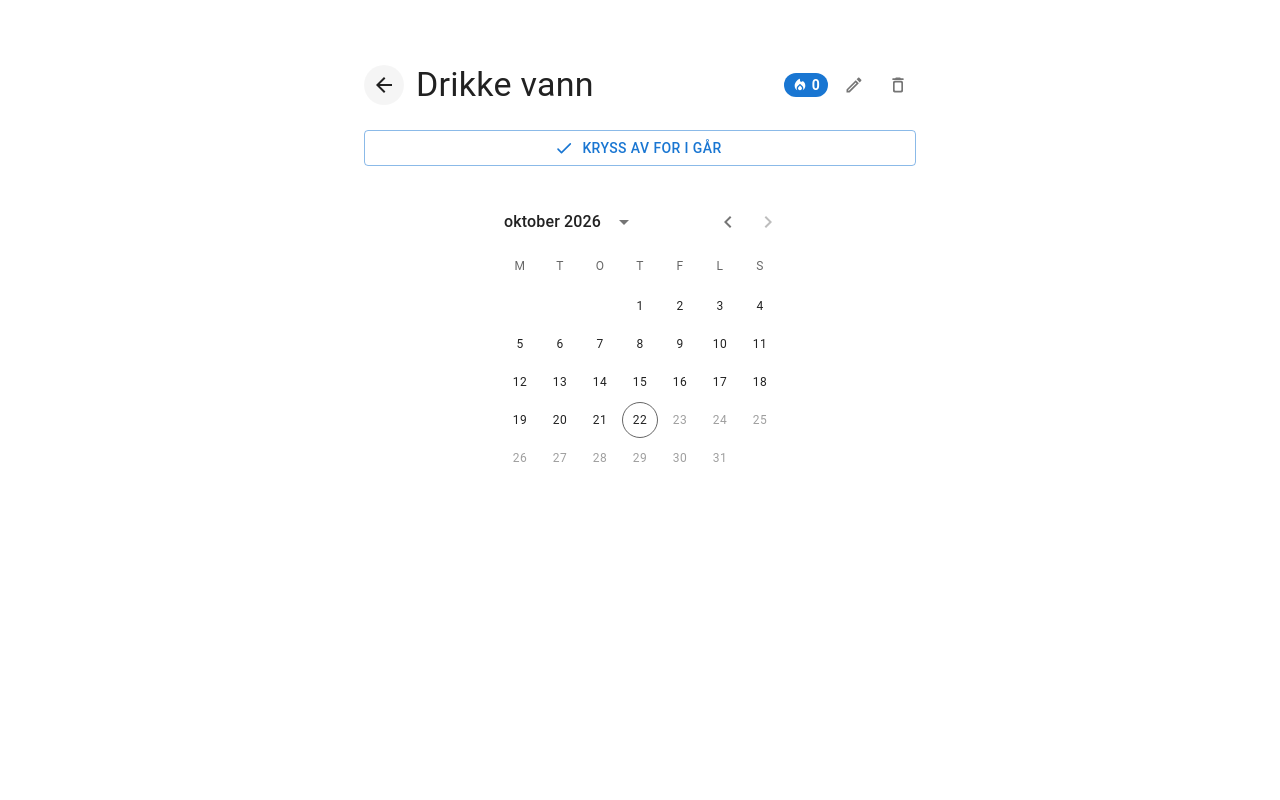
Test: HabitDetailPage › edits the habit's name via the edit button
The image size is (1280, 800).
Click the button named "Rediger": (854, 85) [836,67,872,103]
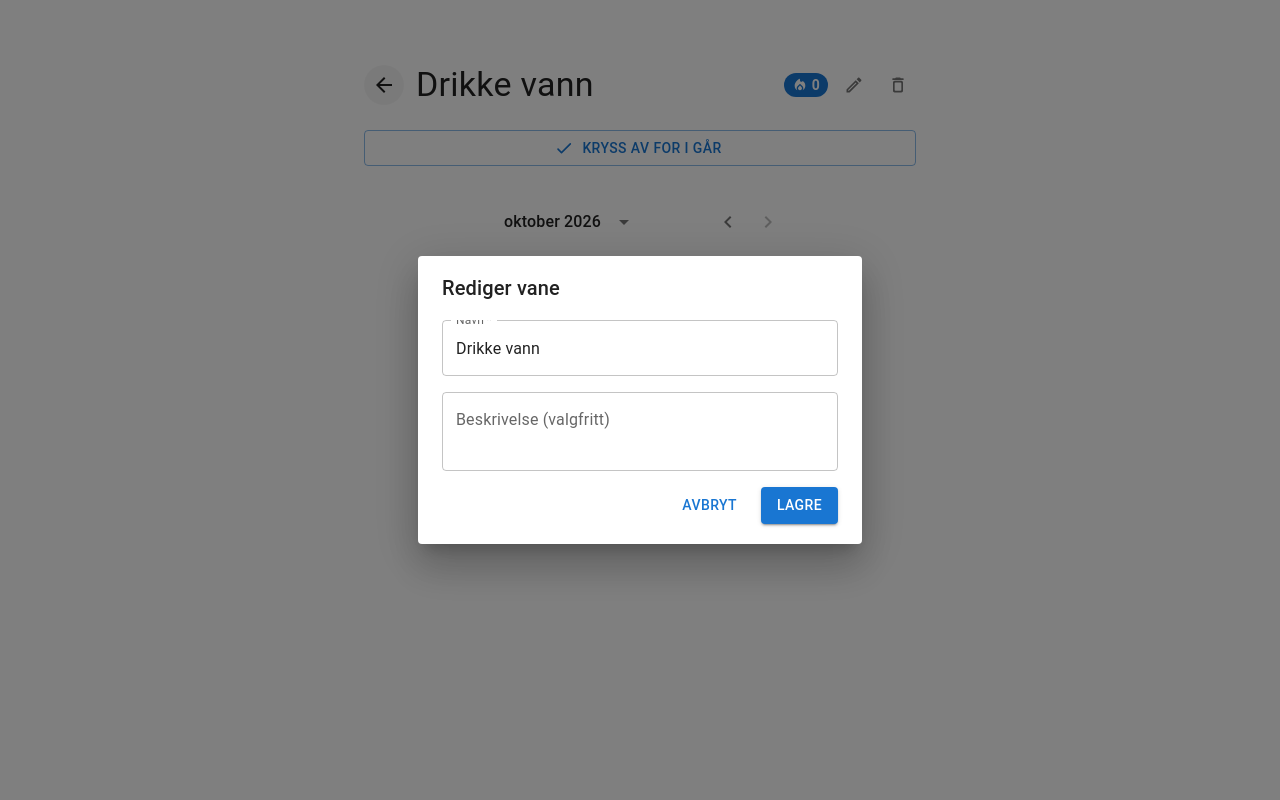
Replace the text in the field labelled "Navn *" with "Drikke mer vann": (640, 348) [442,320,838,376]
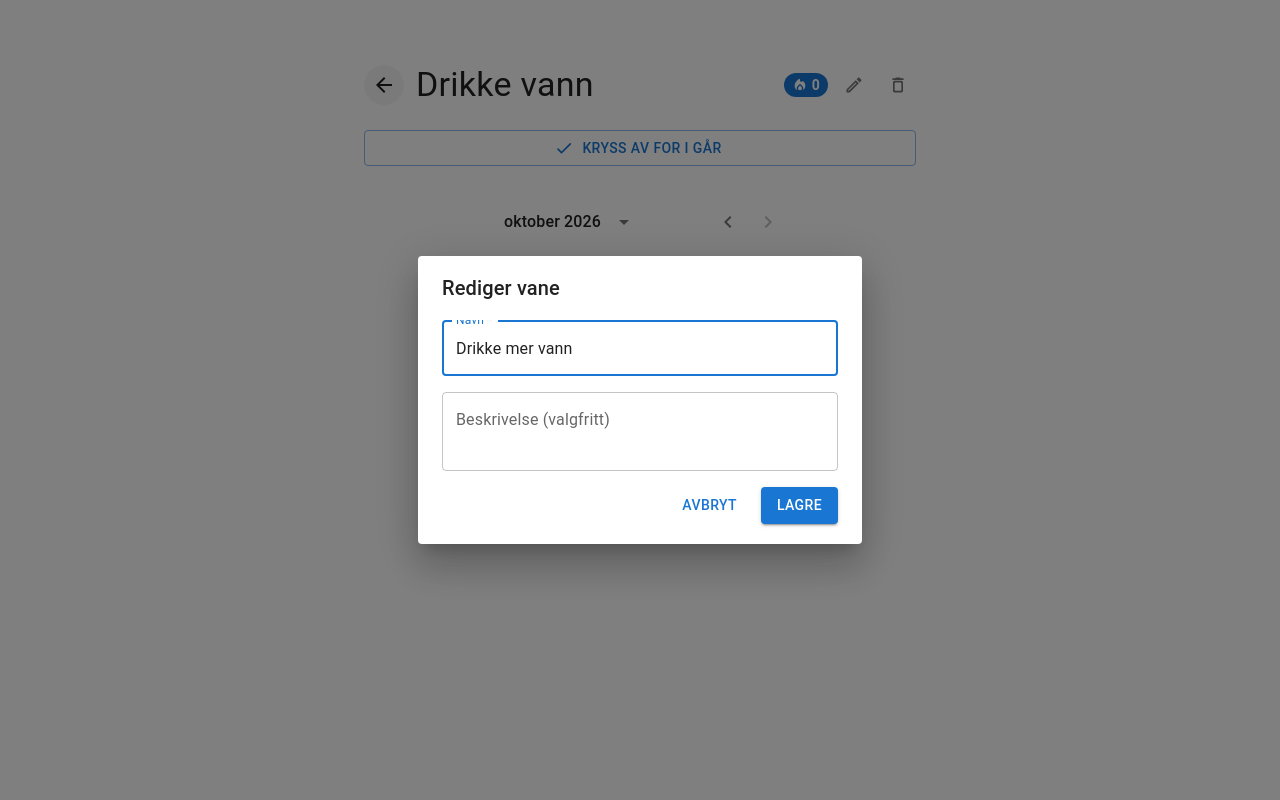
Click the button "Lagre": (799, 506) [761,487,838,524]
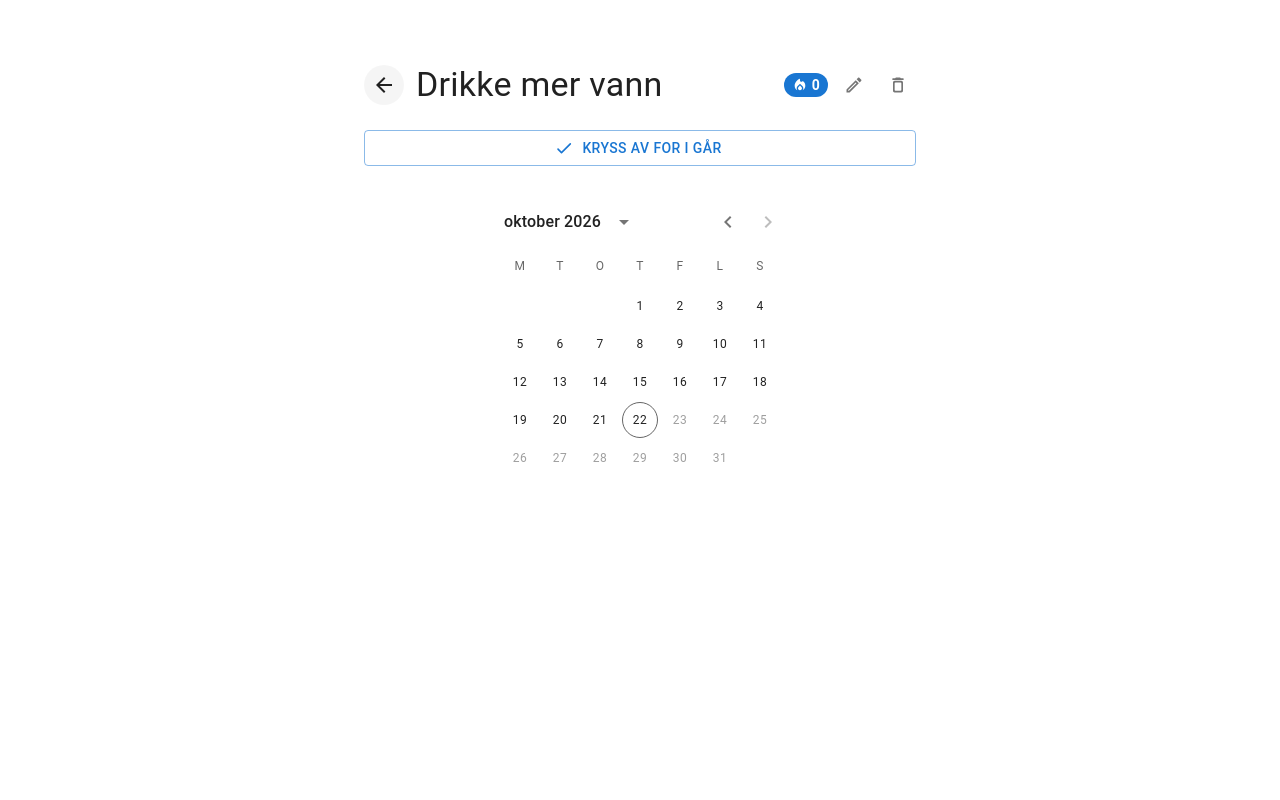
Expected: the heading "Drikke mer vann" is shown, [416,64,662,106]
